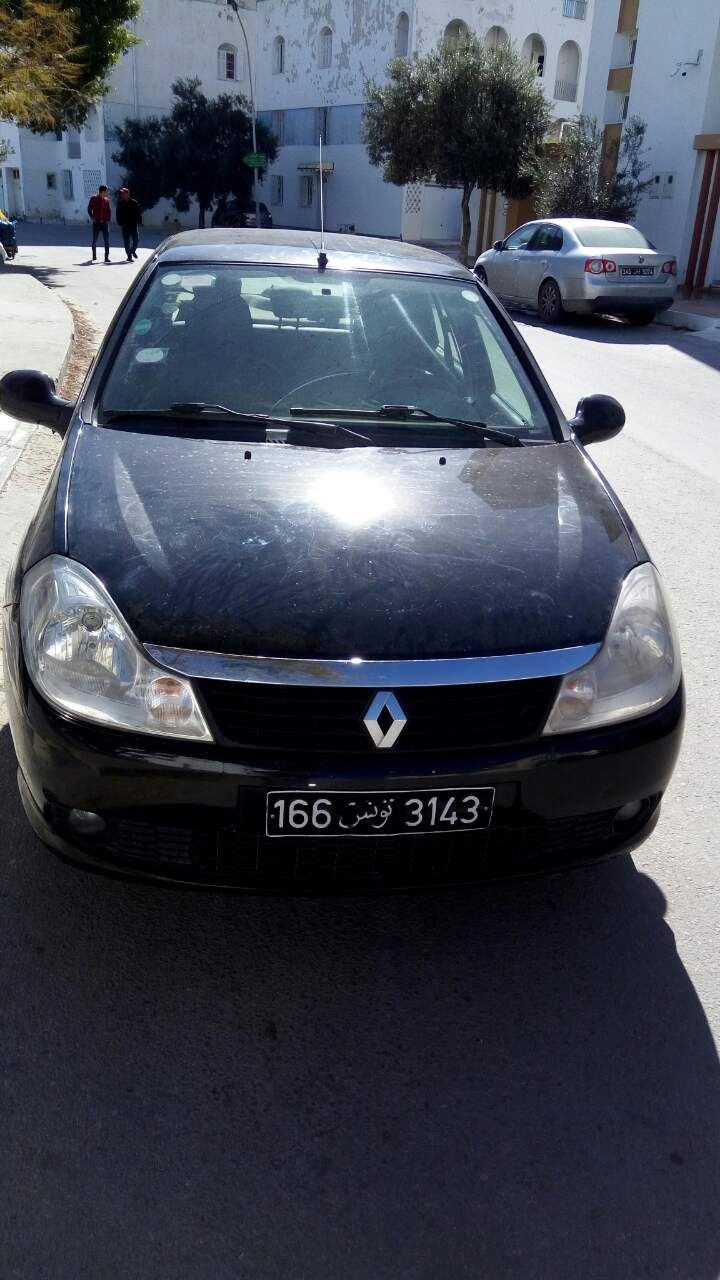LP: (266, 788, 493, 835)
